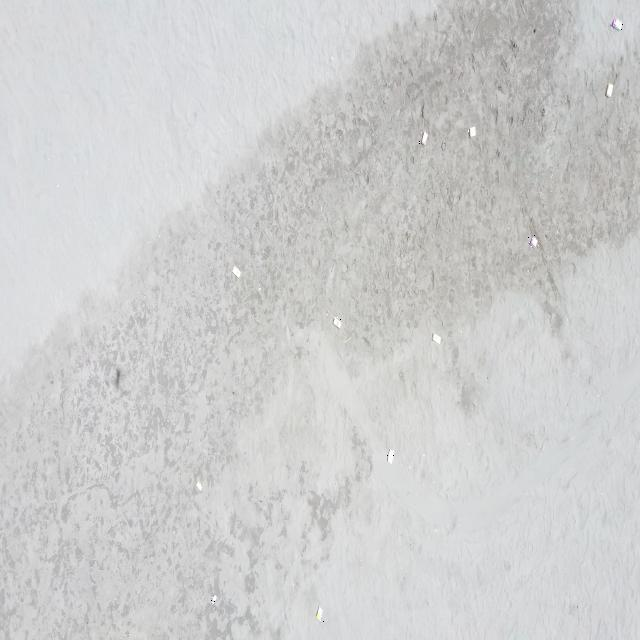Garbage: (611, 16, 622, 30), (417, 132, 427, 143), (604, 83, 612, 96), (316, 607, 323, 620), (387, 448, 393, 463), (432, 332, 440, 343), (332, 316, 340, 327), (467, 125, 475, 136), (527, 236, 535, 247), (232, 266, 240, 276), (209, 595, 216, 604), (344, 336, 351, 343), (196, 480, 201, 489), (440, 140, 444, 150)
